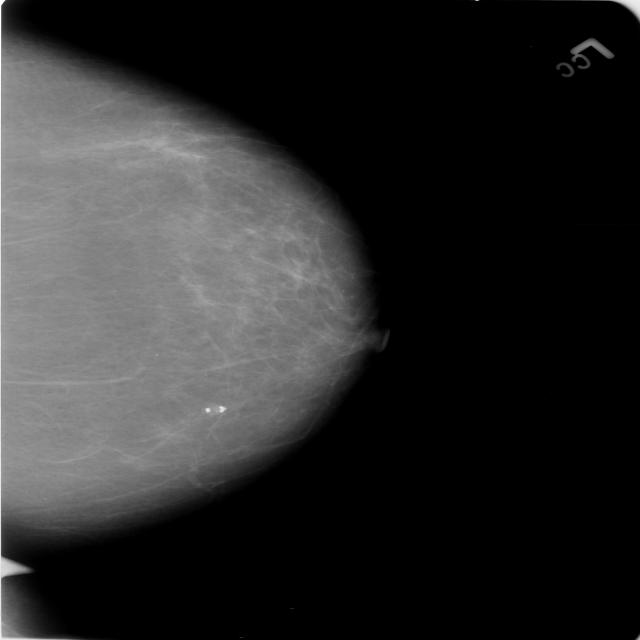normal: (0, 31, 392, 544)
